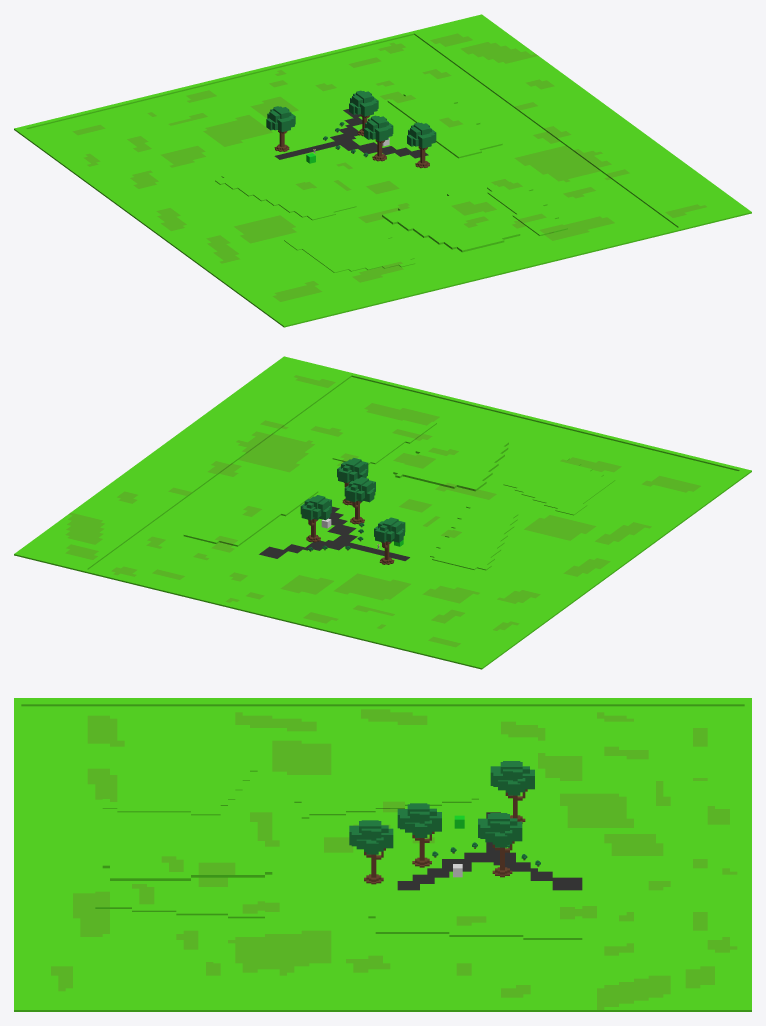
File: world.glb
The picture shows the model from 3 angles, top to bottom: view 1: azimuth 30°, elevation 25°; view 2: azimuth 150°, elevation 25°; view 3: azimuth 270°, elevation 25°; orthographic projection. The views are drawn at different scales.
Visible parts, largest first — view 1: static_terrain, static_tree.001, static_tree.003, static_tree.002, static_tree; view 2: static_terrain, static_tree, static_tree.001, static_tree.002, static_tree.003; view 3: static_terrain, static_tree.003, static_tree.002, static_tree, static_tree.001.
Boxes of the visible parts, x1,y1,x2,y2 form: static_terrain: [14, 14, 751, 327]; static_tree.001: [266, 106, 295, 151]; static_tree.003: [407, 122, 436, 168]; static_tree.002: [364, 115, 393, 161]; static_tree: [349, 90, 378, 136]; static_terrain: [14, 356, 751, 669]; static_tree: [300, 495, 331, 542]; static_tree.001: [374, 517, 405, 564]; static_tree.002: [344, 477, 375, 524]; static_tree.003: [337, 458, 368, 505]; static_terrain: [14, 698, 751, 1011]; static_tree.003: [349, 820, 393, 884]; static_tree.002: [397, 803, 441, 867]; static_tree: [478, 813, 522, 877]; static_tree.001: [490, 761, 534, 823].
Size of the model in its own units: 150 by 12.5 by 150.
15 materials, 11 textured.
